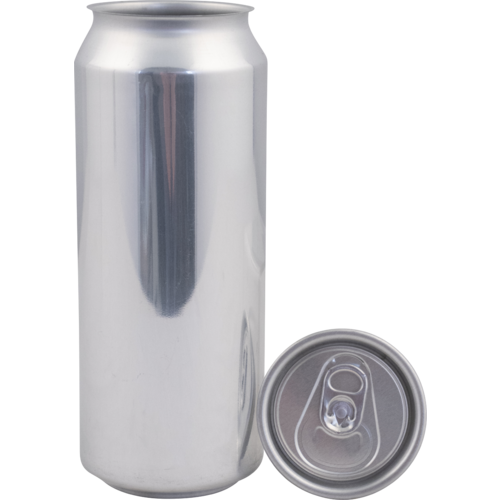can: (58, 3, 263, 497), (263, 322, 430, 500)
